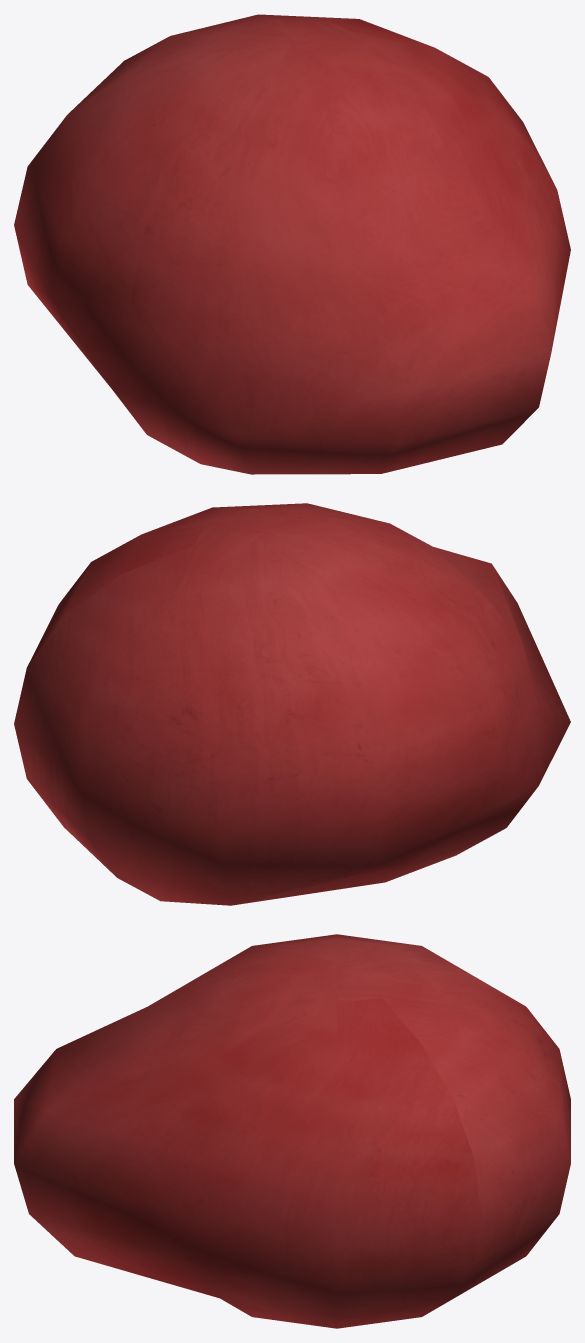
Rendered from Blood.fbx.
The picture shows the model from 3 angles, top to bottom: view 1: azimuth 30°, elevation 25°; view 2: azimuth 150°, elevation 25°; view 3: azimuth 270°, elevation 25°; orthographic projection. The views are drawn at different scales.
Visible parts, largest first — view 1: pSphere1; view 2: pSphere1; view 3: pSphere1.
Boxes of the visible parts, box(x1,y1,x2,y2) form: pSphere1: box(14, 14, 570, 474); pSphere1: box(14, 503, 570, 905); pSphere1: box(14, 934, 570, 1328).
Bounding box in the file's own units: 0.5591 × 0.4218 × 0.6328.
Materials: 1 (1 with a texture image).
